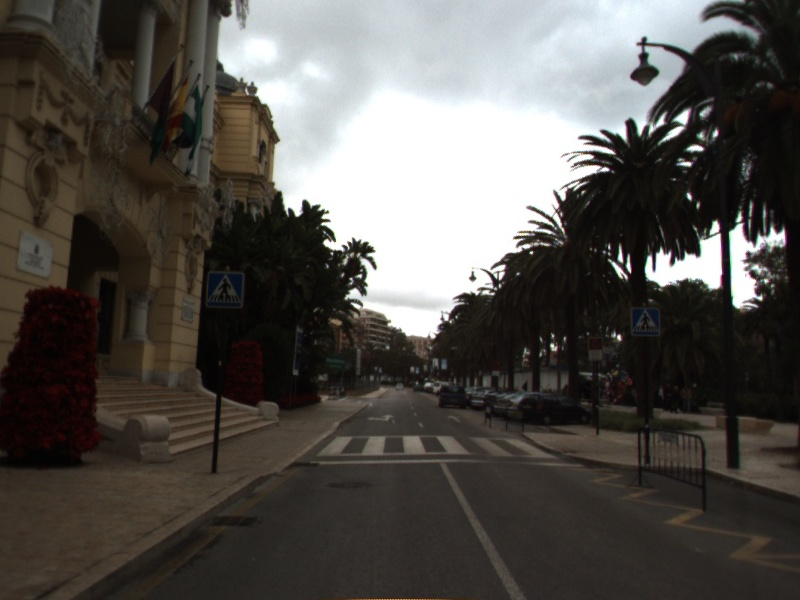STRAIGHT: (445, 413, 464, 425)
STRAIGHT_LEFT: (363, 412, 397, 424)
